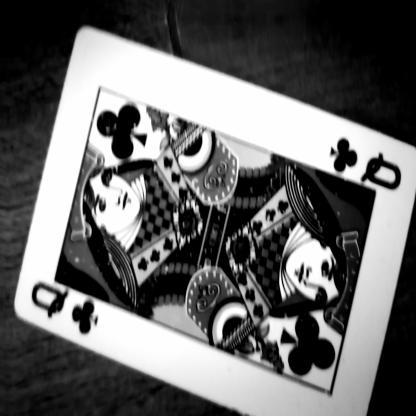QC: (32, 255, 104, 347), (322, 138, 410, 202)
